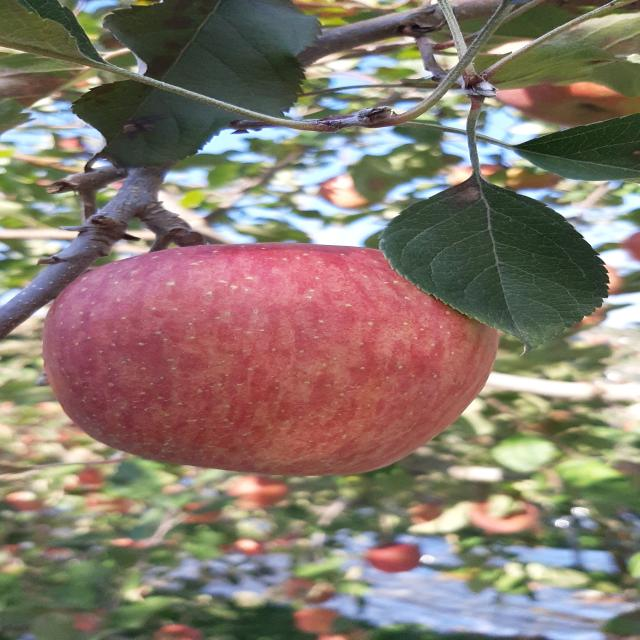fresh: (40, 237, 513, 485)
